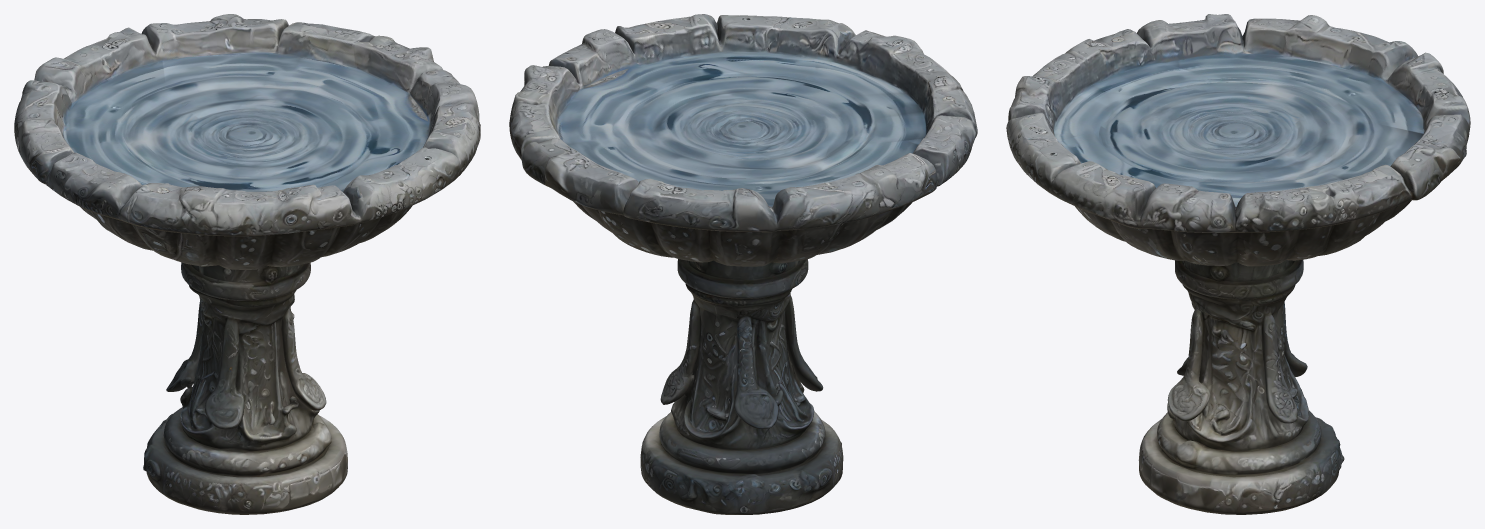
The model's file is prop-bird-bath.glb.
3 views of the same model, side by side, from view 1: azimuth 30°, elevation 25°; view 2: azimuth 150°, elevation 25°; view 3: azimuth 270°, elevation 25° (orthographic).
Visible parts, largest first — view 1: tripo_node_301d32d8-71a0-4bfe-9854-e8dafd22727a; view 2: tripo_node_301d32d8-71a0-4bfe-9854-e8dafd22727a; view 3: tripo_node_301d32d8-71a0-4bfe-9854-e8dafd22727a.
Boxes of the visible parts, x1=… form: tripo_node_301d32d8-71a0-4bfe-9854-e8dafd22727a: x1=14, y1=14, x2=480, y2=514; tripo_node_301d32d8-71a0-4bfe-9854-e8dafd22727a: x1=509, y1=14, x2=977, y2=514; tripo_node_301d32d8-71a0-4bfe-9854-e8dafd22727a: x1=1006, y1=14, x2=1470, y2=514.
Size of the model in its own units: 1.13 by 1 by 1.14.
1 material, 1 textured.
